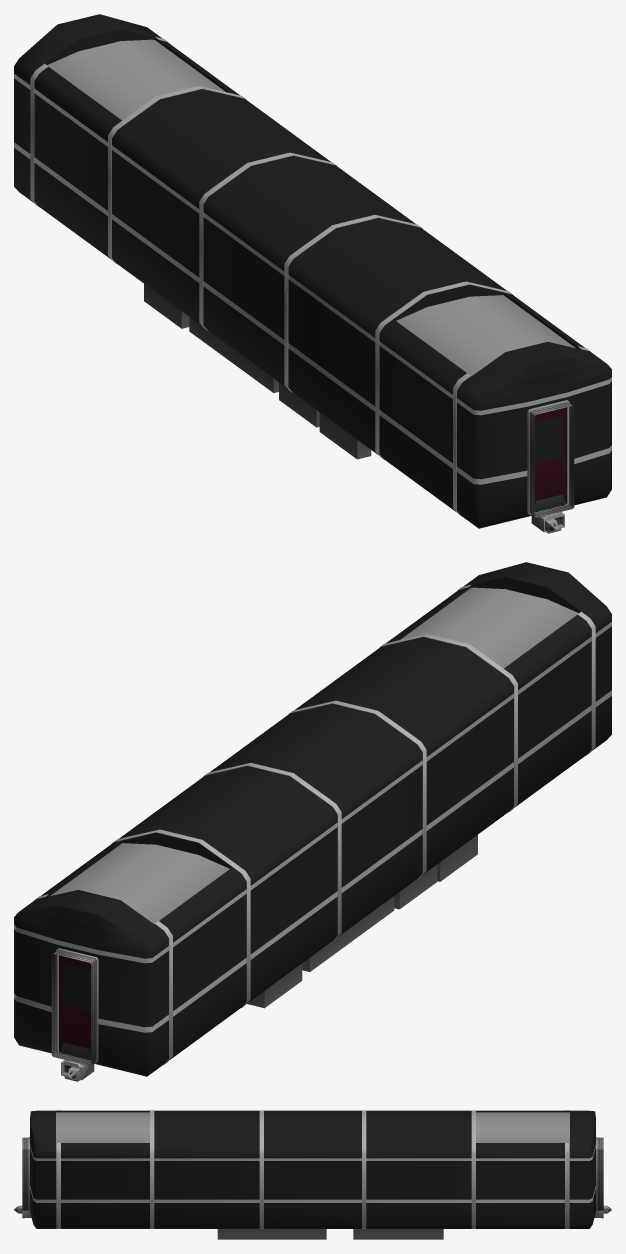
3 views of the same model, one above another, from view 1: azimuth 30°, elevation 25°; view 2: azimuth 150°, elevation 25°; view 3: azimuth 270°, elevation 25° (orthographic). The views are drawn at different scales.
Visible parts, largest first — view 1: obj11; view 2: obj11; view 3: obj11.
Boxes of the visible parts, x1,y1,x2,y2 form: obj11: [14, 14, 611, 533]; obj11: [14, 562, 611, 1081]; obj11: [14, 1110, 611, 1239].
Bounding box in the file's own units: 6.56 × 8.03 × 40.64.
Materials: 9 (9 with a texture image).
